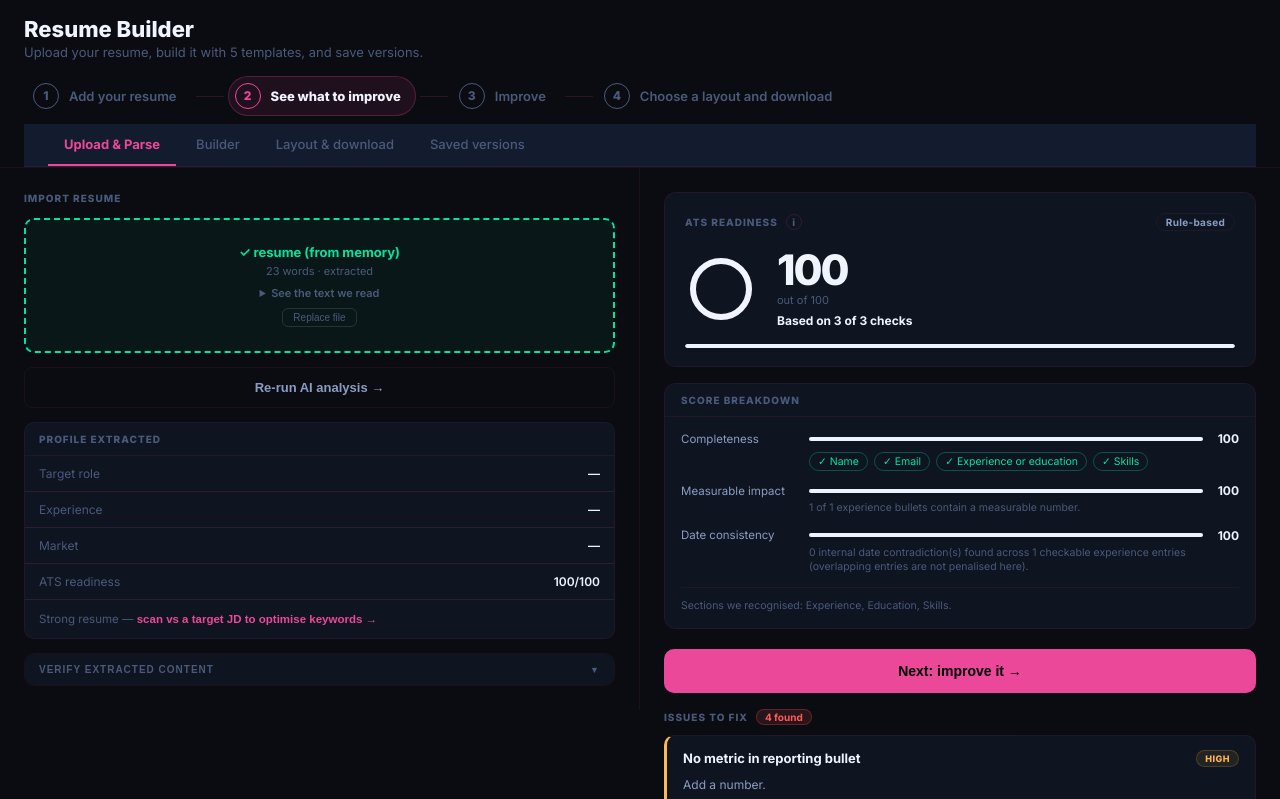
Test: Builder suggestions, through the real component › an invented figure becomes [X] and is flagged; it is not shown as fact
Click the button "Builder": (218, 145) [180,124,256,166]
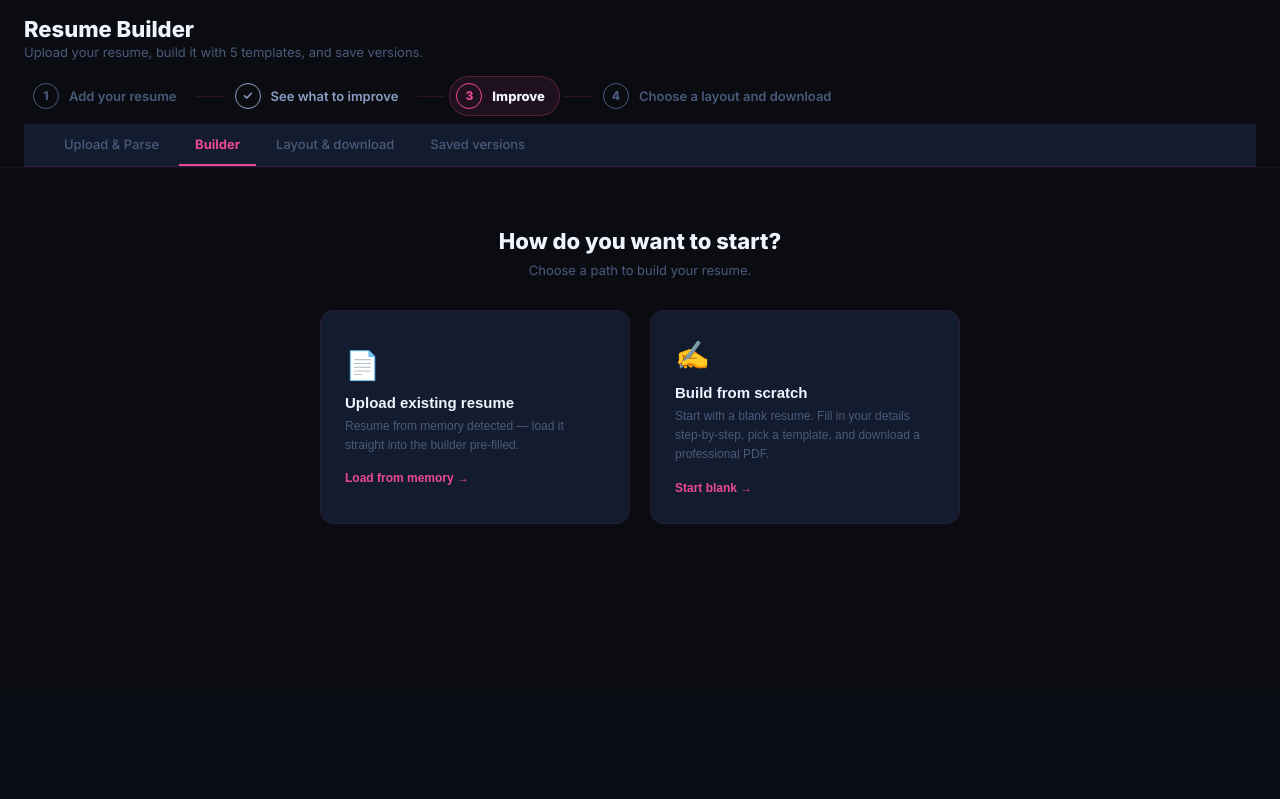
Click the text "Load from memory →": (407, 478) [345,471,469,485]
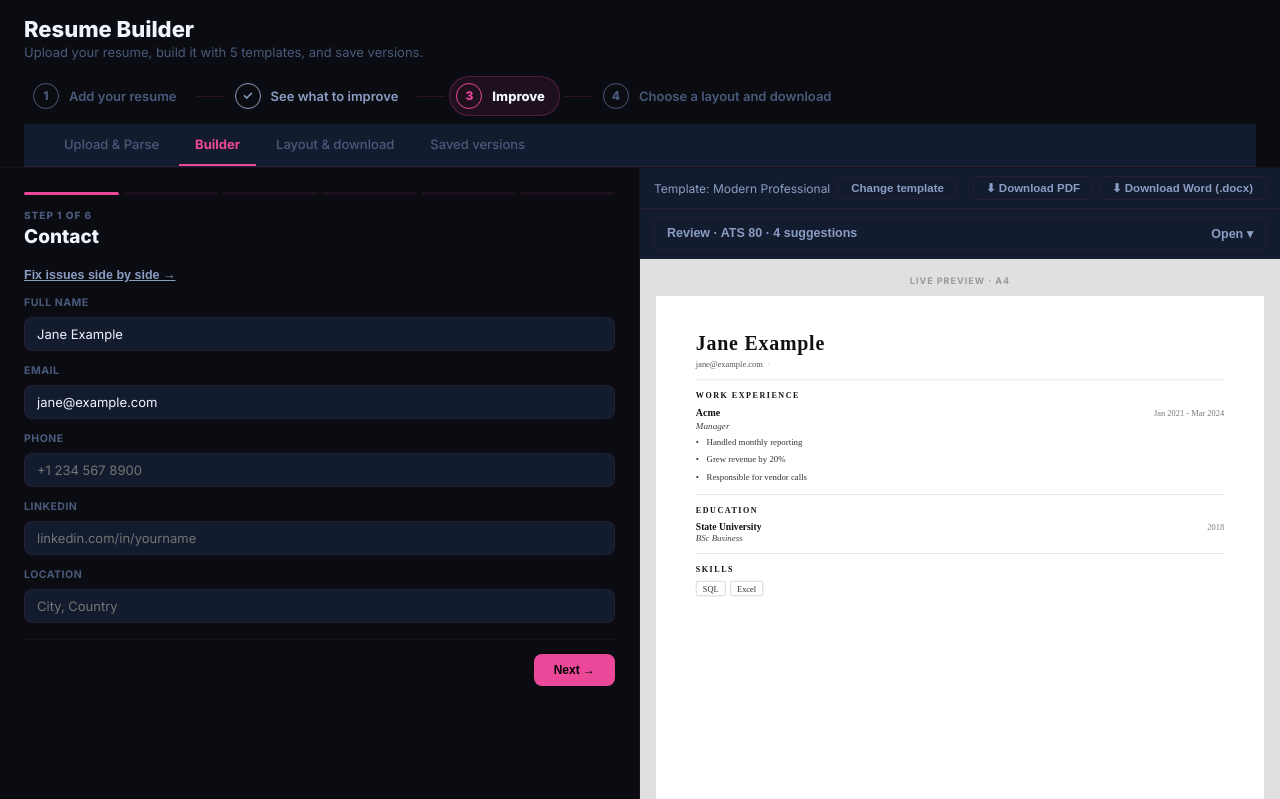
Click the button "Review · ATS 80 · 4 suggestions Open ▾": (762, 233) [654,217,1266,250]
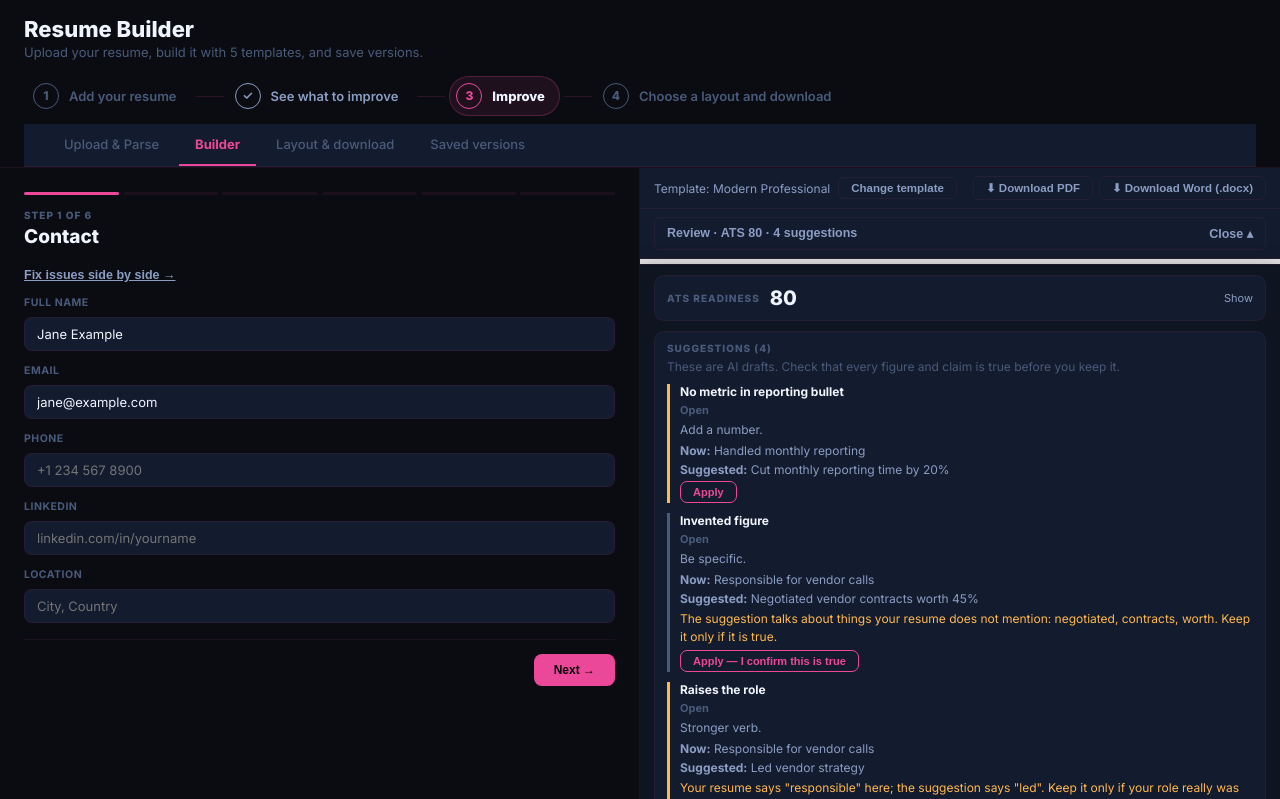
Click the button "Next →": (574, 670) [534,654,615,686]
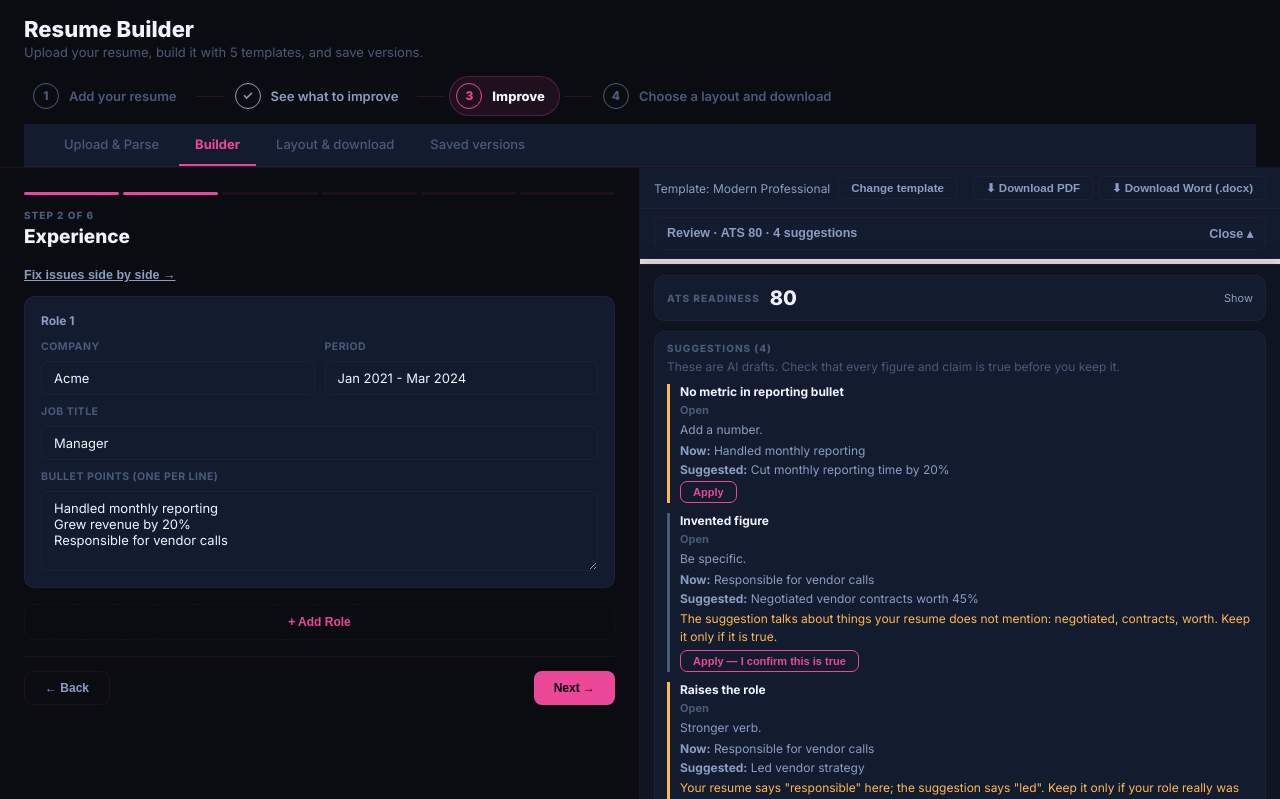
Now the text "Step 2 of 6" is shown, box [24,209,94,221]
Click the button "Apply — I confirm this is true": (769, 661) [680,650,859,672]
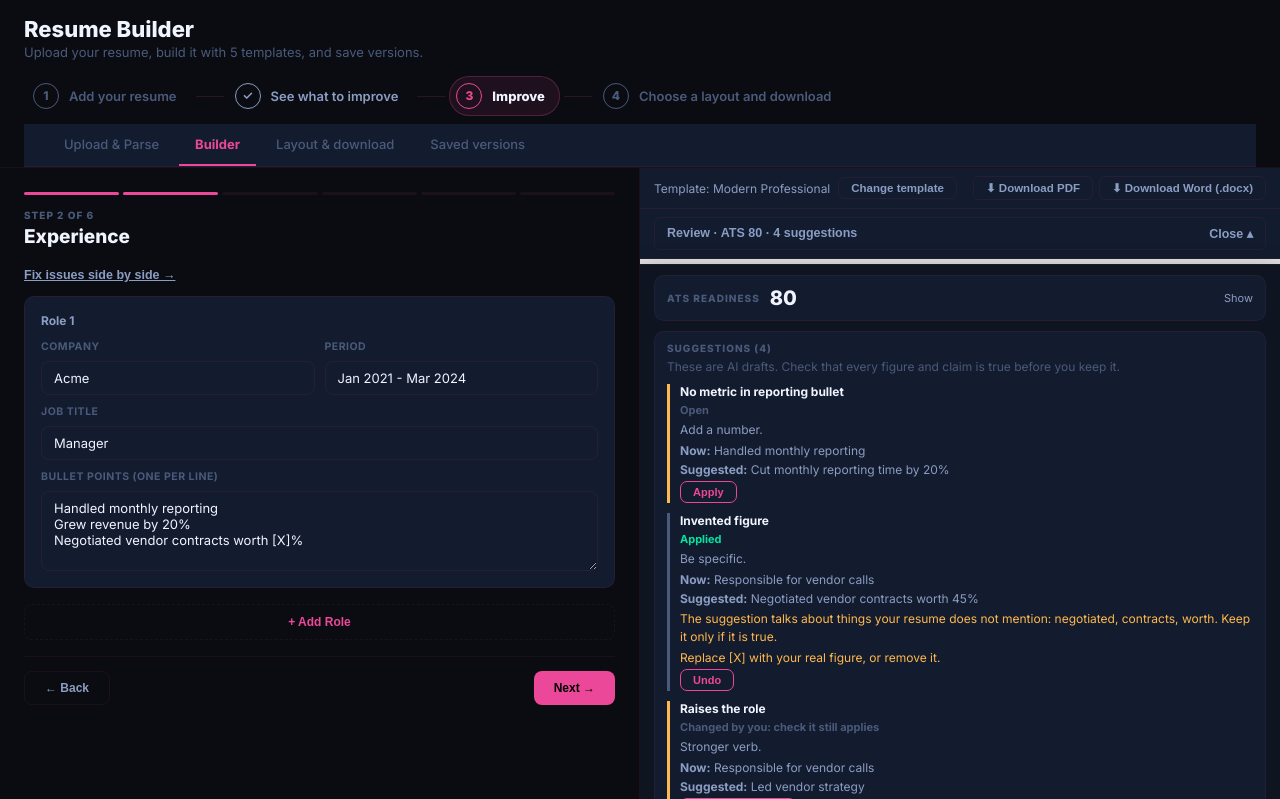
Now the text "Invented figure" shows "replace [X]", box [680,650,940,665]
